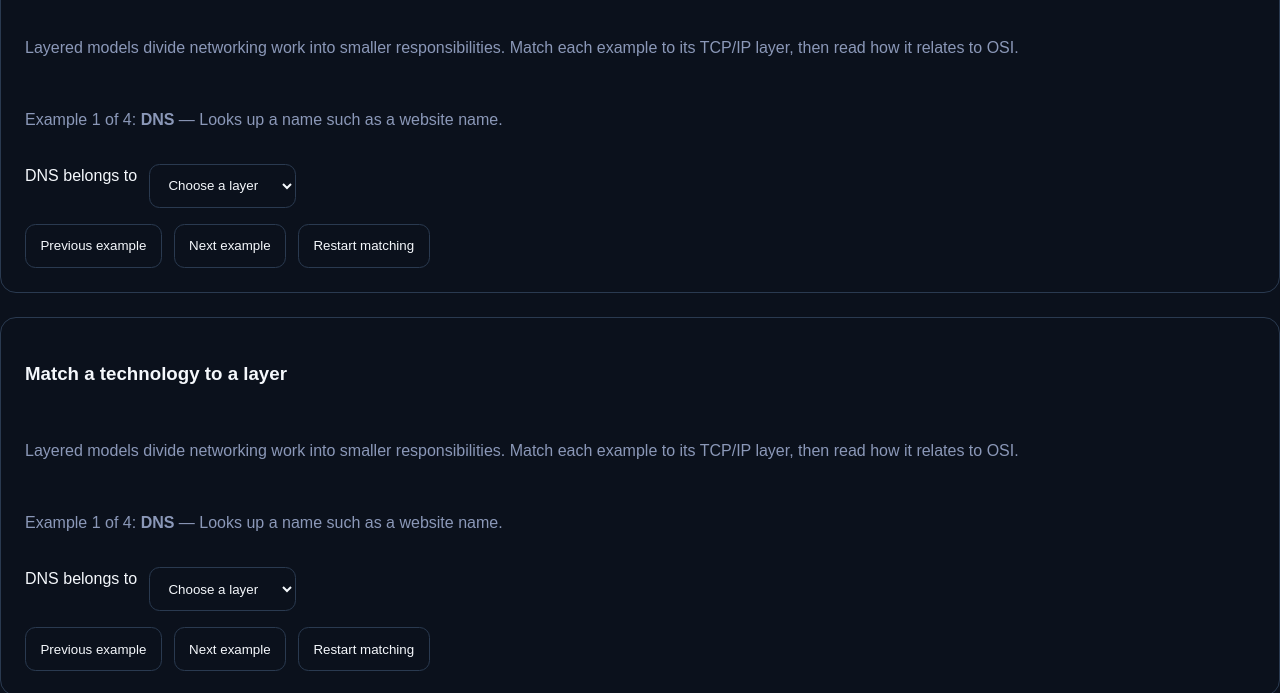
Scenario: LayerMatchingExercise › keeps each exercise's label and selection independent when rendered twice
This screenshot has width=1280, height=693.
(page scrolled)
Step 1. Select "Application" in the 2nd dropdown labelled "DNS belongs to" → [222, 589], box [149, 567, 296, 611]
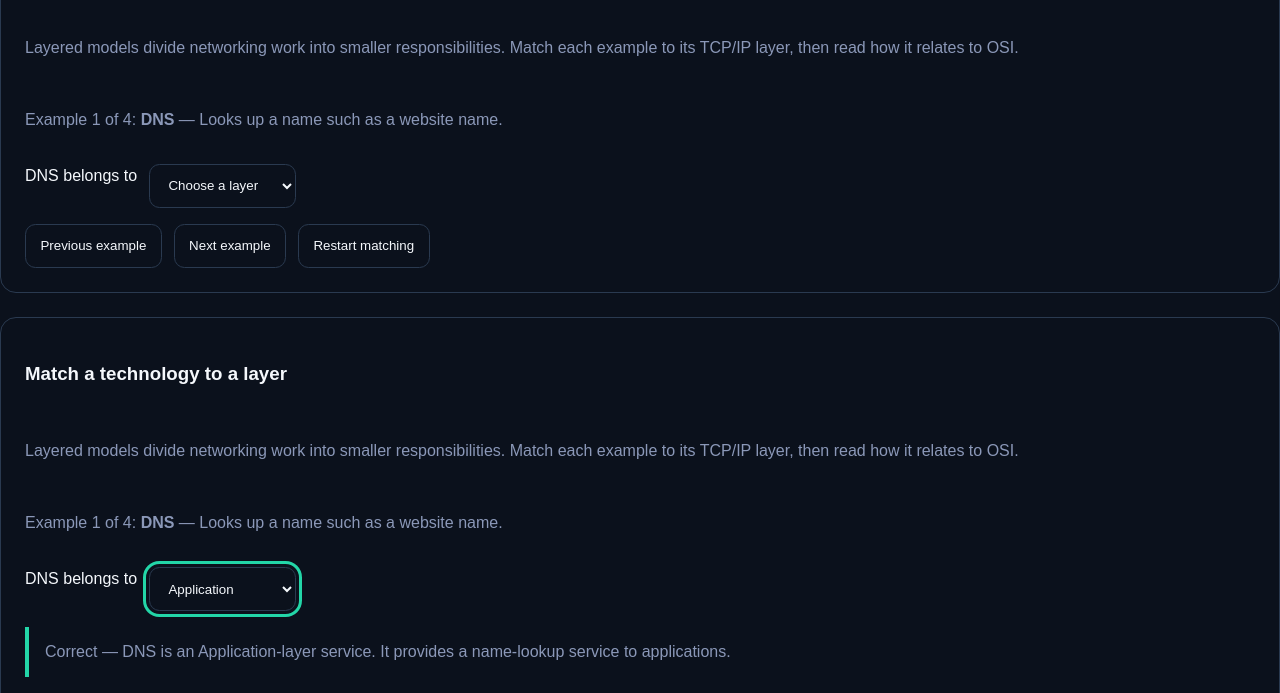
Expected: the 1st dropdown labelled "DNS belongs to" shows "Choose a layer", [149, 164, 296, 208]
Expected: the message shows "Correct", [45, 643, 98, 660]
